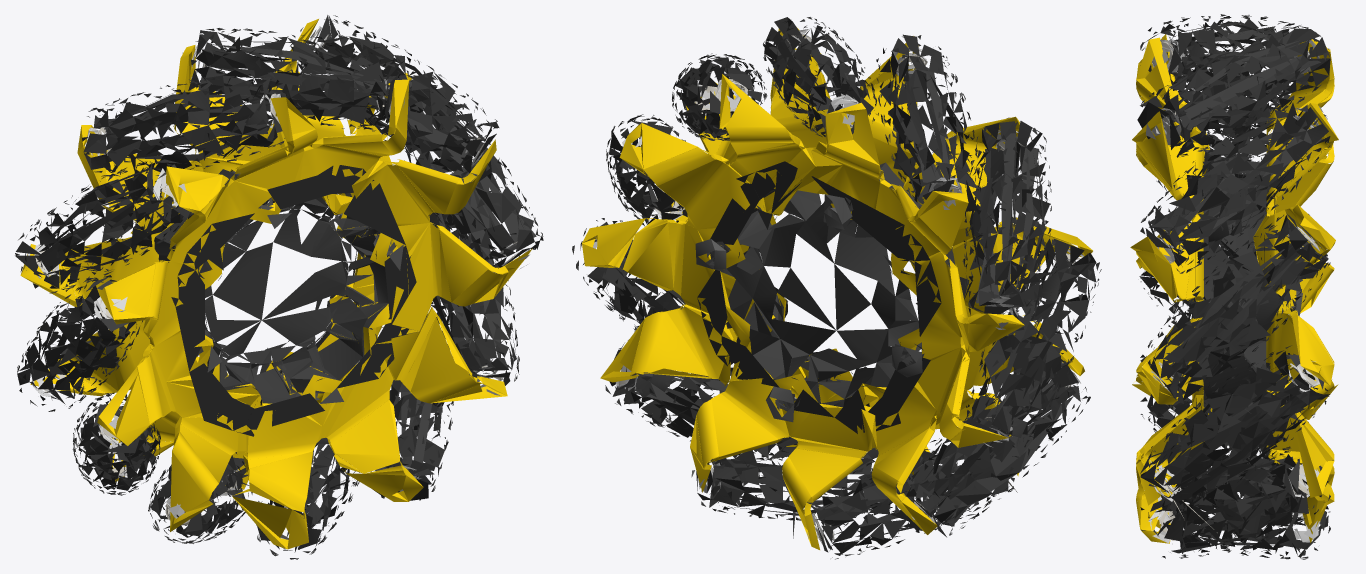
The picture shows the model from 3 angles, left to right: view 1: azimuth 30°, elevation 25°; view 2: azimuth 150°, elevation 25°; view 3: azimuth 270°, elevation 25°; orthographic projection.
Parts seen in each view (by area): view 1: fr; view 2: fr; view 3: fr.
Boxes of the visible parts, x1,y1,x2,y2 form: fr: (15, 15, 543, 559); fr: (572, 17, 1101, 559); fr: (1130, 14, 1338, 559).
Bounding box in the file's own units: 0.104 × 0.1048 × 0.0422.
